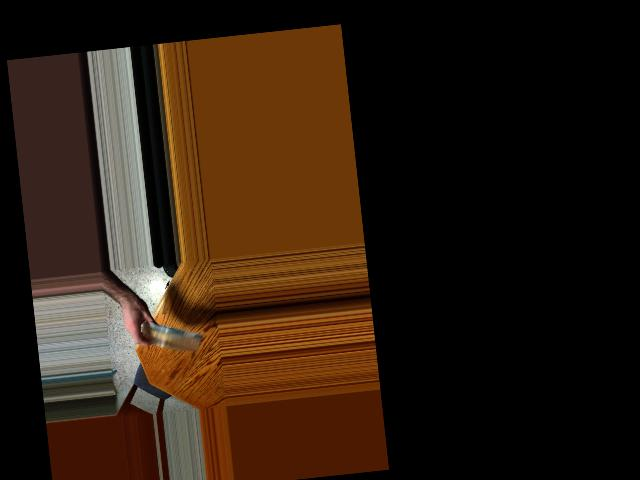cheese: (134, 322, 205, 353)
